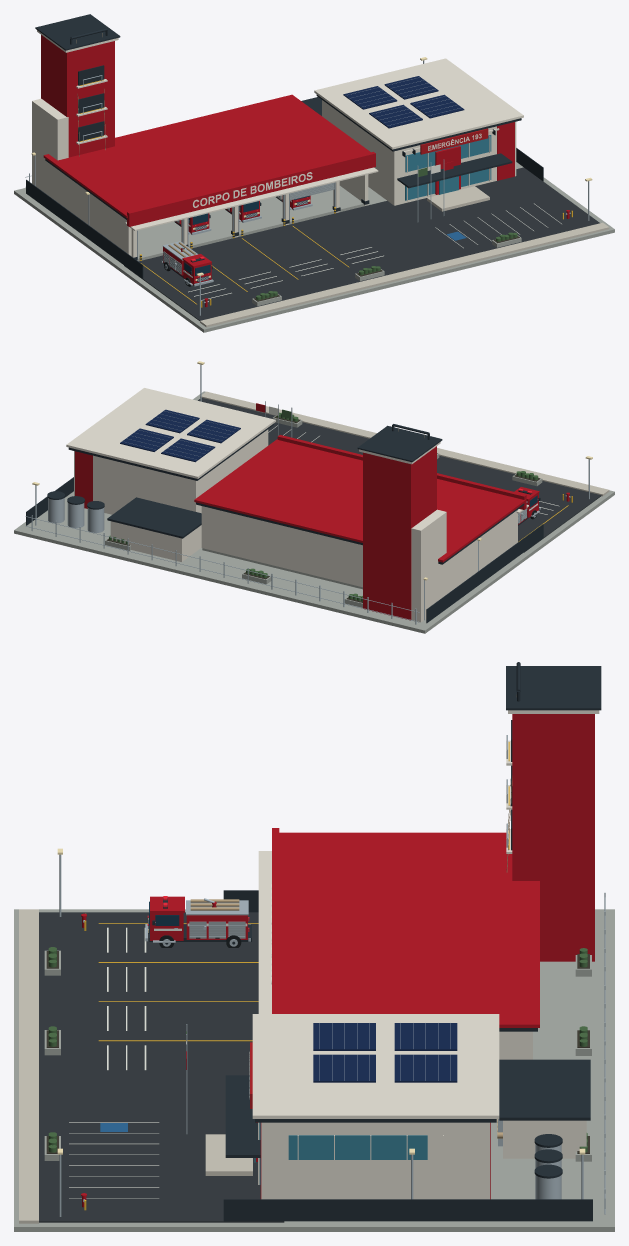
File: base-bombeiros.glb
3 renders of one model, top to bottom at view 1: azimuth 30°, elevation 25°; view 2: azimuth 150°, elevation 25°; view 3: azimuth 270°, elevation 25°, orthographic. The views are drawn at different scales.
Visible parts, largest first — view 1: static-asphalt-Apron, static-red-GarageRoofRedTrim, static-ivory-AdminCornice, static-red-TrainingTower, static-concrete-Foundation, static-concrete-GarageFloor, static-red-GarageFrontFascia, static-paving-Sidewalk, static-ivory-AdminCore, static-ivory-TowerStairBlock, static-ivory-GarageWestWall, static-charcoal-SideFence-29200 (+14 smaller); view 2: static-red-GarageRoofRedTrim, static-concrete-Foundation, static-red-TrainingTower, static-ivory-AdminCornice, static-ivory-GarageBackWall, static-asphalt-Apron, static-ivory-AdminCore, static-ivory-TowerStairBlock, static-ivory-GarageWestWall, static-paving-Sidewalk, static-charcoal-ServiceShedRoof, static-ivory-ServiceShed (+17 smaller); view 3: static-asphalt-Apron, static-red-GarageRoofRedTrim, static-concrete-Foundation, static-ivory-AdminCornice, static-red-TrainingTower, static-ivory-AdminCore, static-charcoal-SideFence29200, static-paving-Sidewalk, static-charcoal-ServiceShedRoof, static-charcoal-TowerRoof, static-glass-AdminGlassEast, static-ivory-ServiceShed (+10 smaller).
Part boxes in pixels (<box>): static-asphalt-Apron: <box>124,167,599,320</box>; static-red-GarageRoofRedTrim: <box>43,94,370,217</box>; static-ivory-AdminCornice: <box>314,58,523,149</box>; static-red-TrainingTower: <box>41,35,114,157</box>; static-concrete-Foundation: <box>14,162,614,332</box>; static-concrete-GarageFloor: <box>137,186,366,261</box>; static-red-GarageFrontFascia: <box>127,151,375,226</box>; static-paving-Sidewalk: <box>200,222,609,327</box>; static-ivory-AdminCore: <box>322,100,516,205</box>; static-ivory-TowerStairBlock: <box>32,98,68,201</box>; static-ivory-GarageWestWall: <box>52,166,131,256</box>; static-charcoal-SideFence-29200: <box>26,179,143,278</box>; static-red-GarageRoofRedTrim: <box>194,439,525,562</box>; static-concrete-Foundation: <box>14,391,614,633</box>; static-red-TrainingTower: <box>363,446,436,620</box>; static-ivory-AdminCornice: <box>66,388,275,478</box>; static-ivory-GarageBackWall: <box>201,506,441,598</box>; static-asphalt-Apron: <box>198,398,601,552</box>; static-ivory-AdminCore: <box>74,429,268,514</box>; static-ivory-TowerStairBlock: <box>411,509,446,622</box>; static-ivory-GarageWestWall: <box>441,510,517,597</box>; static-paving-Sidewalk: <box>200,391,609,496</box>; static-charcoal-ServiceShedRoof: <box>107,497,201,538</box>; static-ivory-ServiceShed: <box>110,521,201,561</box>; static-asphalt-Apron: <box>39,912,284,1222</box>; static-red-GarageRoofRedTrim: <box>279,832,539,1027</box>; static-concrete-Foundation: <box>14,909,614,1231</box>; static-ivory-AdminCornice: <box>252,1014,499,1118</box>; static-red-TrainingTower: <box>512,714,594,961</box>; static-ivory-AdminCore: <box>261,1122,490,1199</box>; static-charcoal-SideFence29200: <box>223,1199,592,1221</box>; static-paving-Sidewalk: <box>19,909,38,1223</box>; static-charcoal-ServiceShedRoof: <box>499,1059,590,1120</box>; static-charcoal-TowerRoof: <box>506,666,601,710</box>; static-glass-AdminGlassEast: <box>288,1135,427,1159</box>; static-ivory-ServiceShed: <box>503,1120,586,1158</box>.
Size of the model in its own units: 60 by 24.06 by 48.
